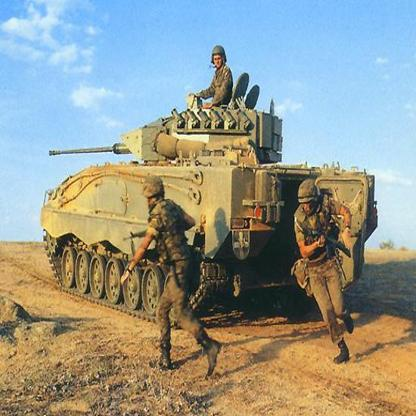Tank: (37, 88, 391, 334)
